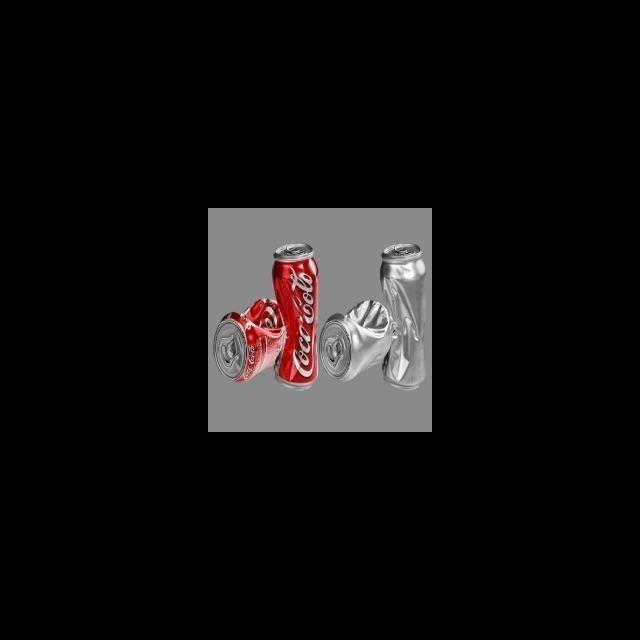metal: (369, 238, 432, 402), (258, 240, 319, 399), (208, 287, 292, 390), (318, 296, 397, 385)
